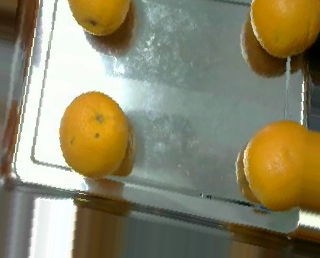Orange: (57, 91, 129, 179)
